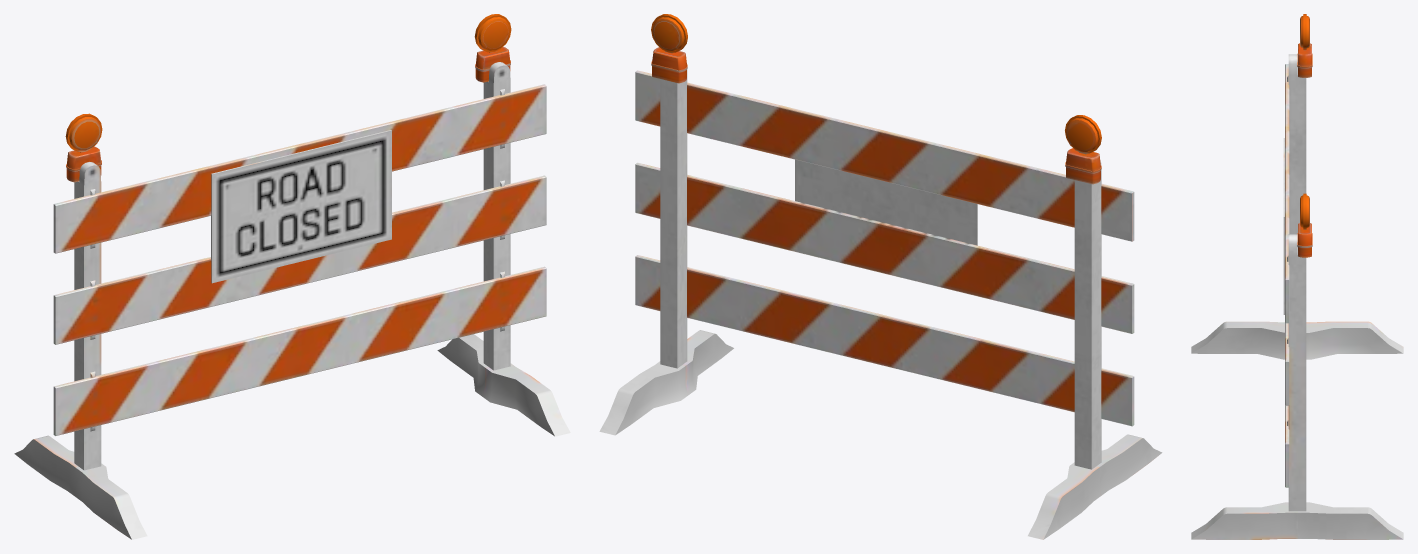
Rendered from Roadblock02.glb.
The picture shows the model from 3 angles, left to right: view 1: azimuth 30°, elevation 25°; view 2: azimuth 150°, elevation 25°; view 3: azimuth 270°, elevation 25°; orthographic projection. The views are drawn at different scales.
Visible parts, largest first — view 1: Roadblock2; view 2: Roadblock2; view 3: Roadblock2.
Part boxes in pixels (bbox=[...]): Roadblock2: bbox=[14, 14, 570, 539]; Roadblock2: bbox=[599, 14, 1162, 539]; Roadblock2: bbox=[1191, 14, 1403, 539].
Size of the model in its own units: 0.9873 by 0.7208 by 0.4104.
1 material, 1 textured.
